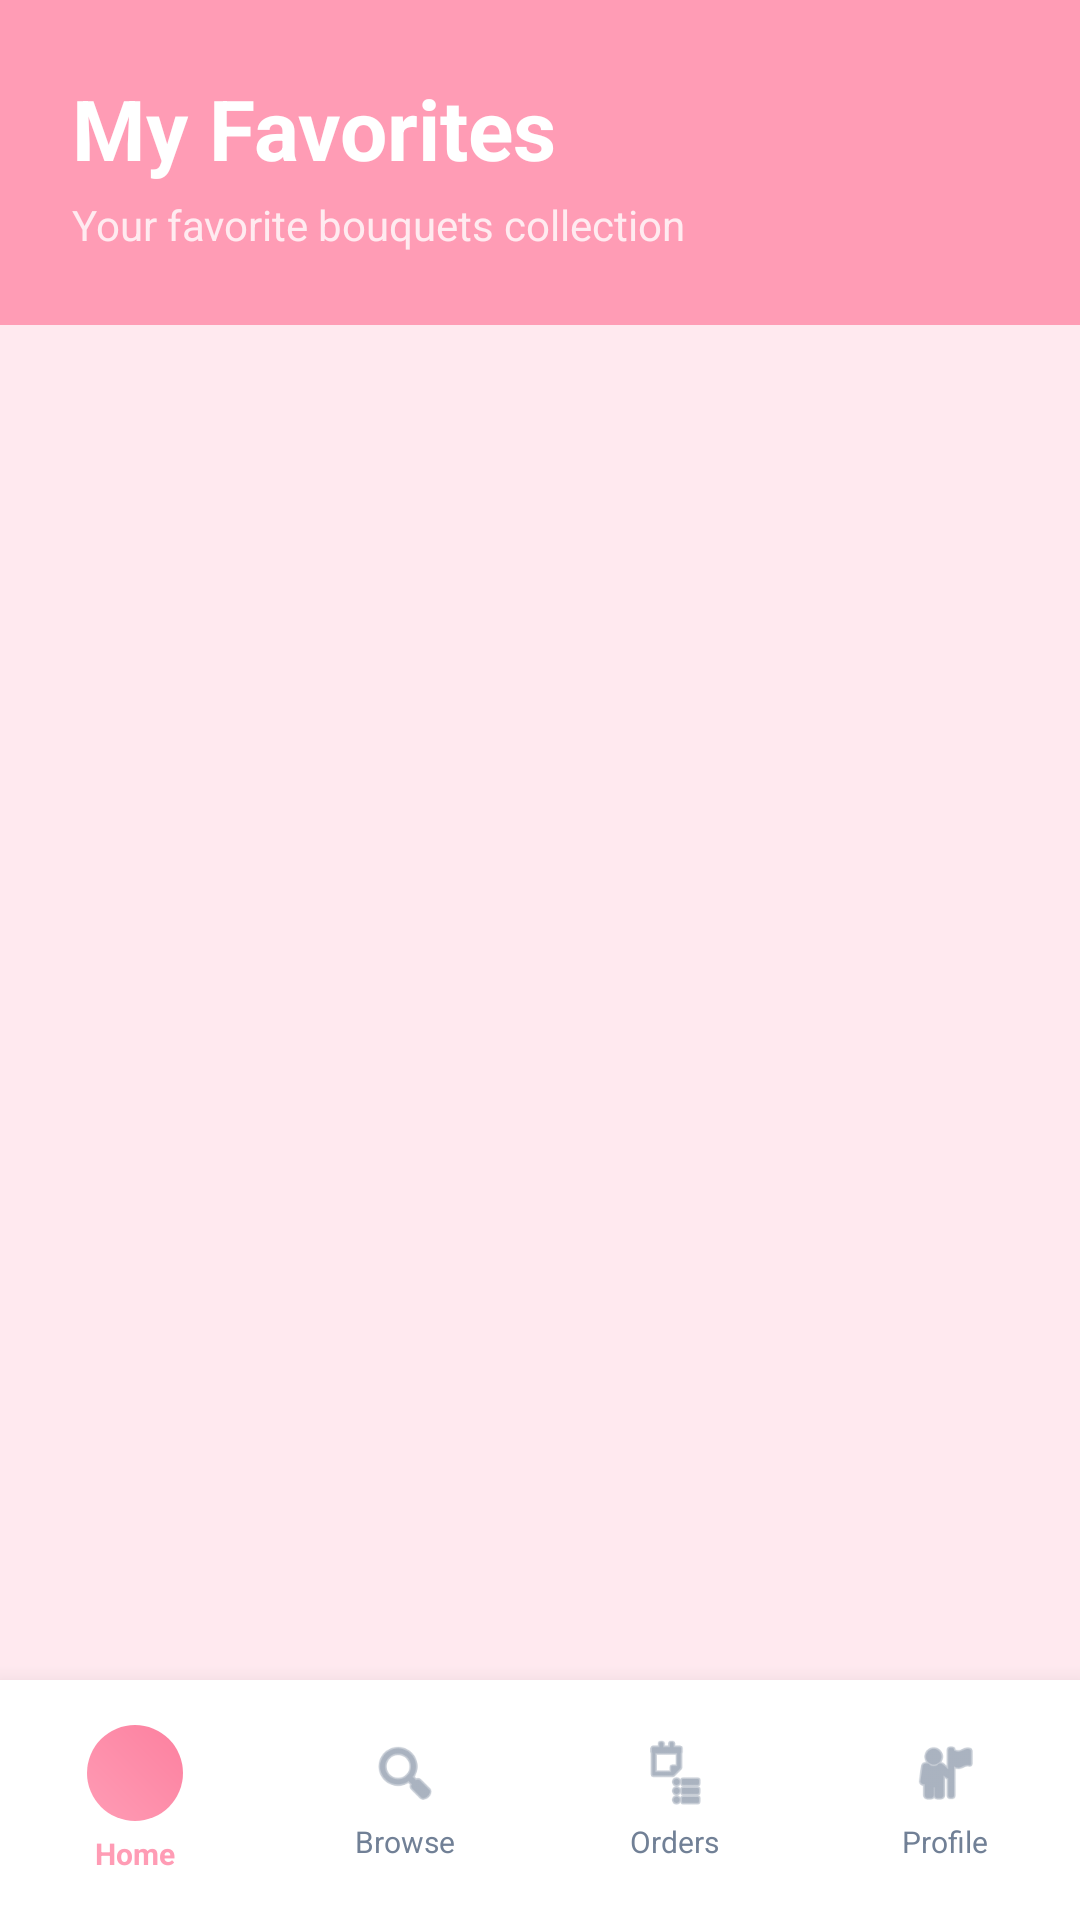

Screen size 1080×1920. Icon name, then its box in pixels as (x1, y1, x2, y2):
agenda: (650, 1741, 701, 1805)
myplaces: (919, 1746, 973, 1800)
search: (379, 1747, 431, 1800)
